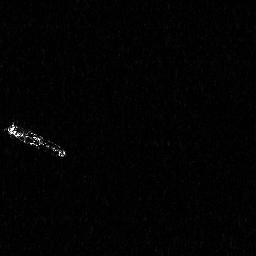ship: (5, 120, 67, 160)
